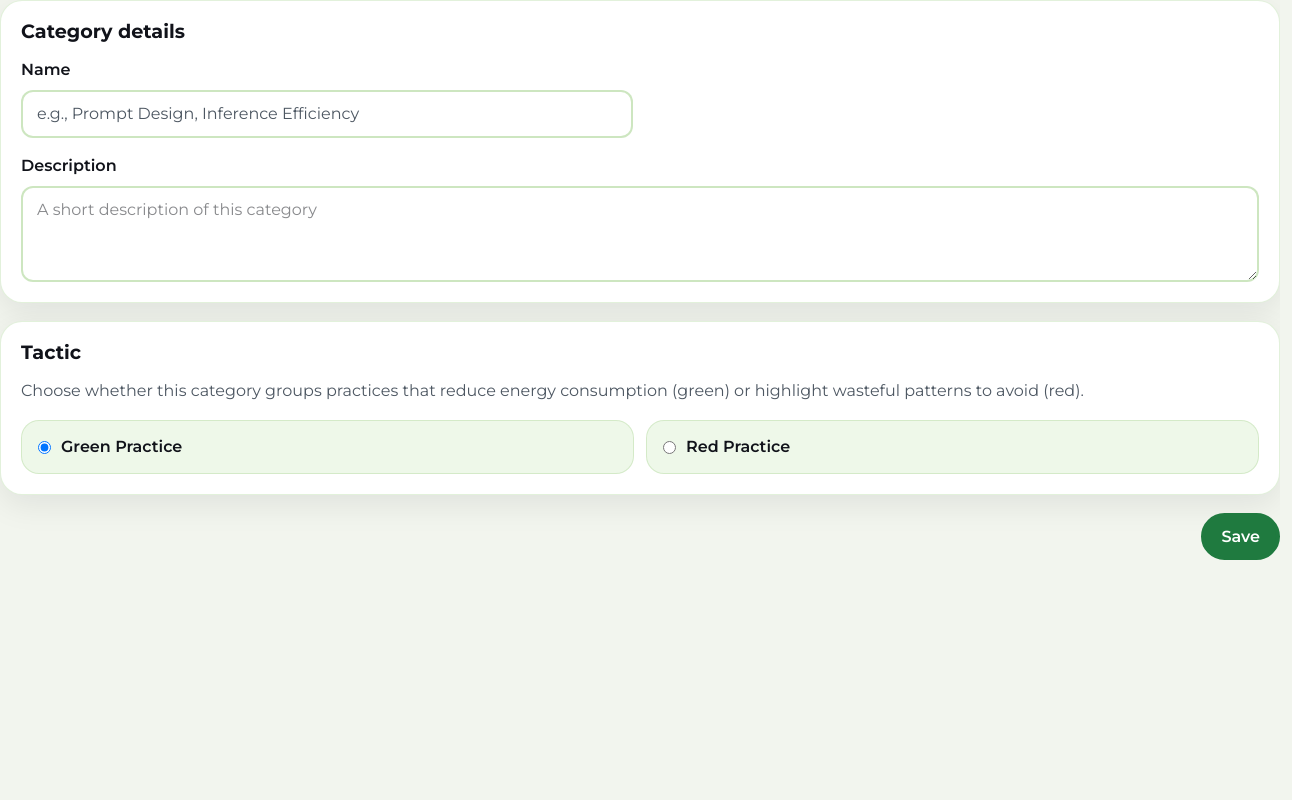
Scenario: CategoryForm › allows switching tactic to RED_PRACTICE
Click the radio button labelled "Red Practice" at {"x": 670, "y": 447}, box left=663, top=441, right=676, bottom=454
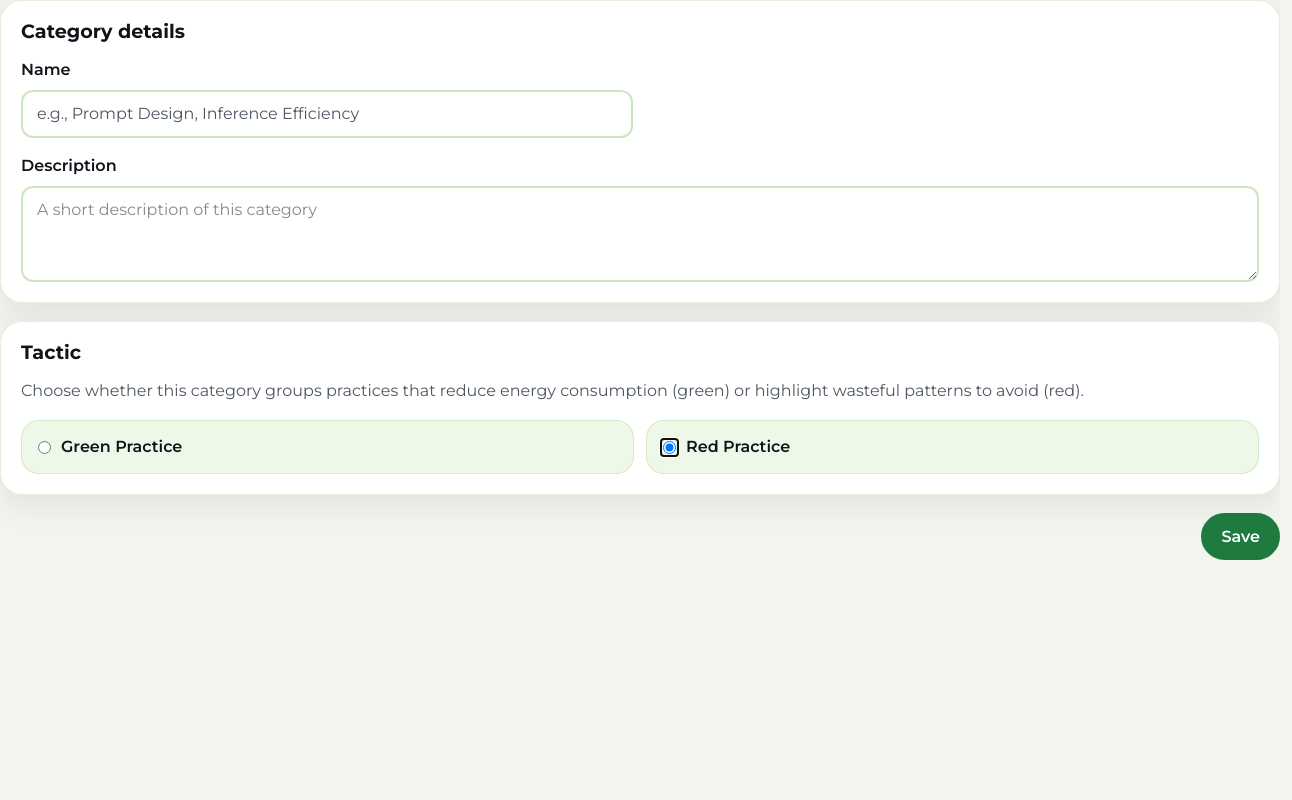
Now the radio button labelled "Red Practice" is checked, box left=663, top=441, right=676, bottom=454
Now the radio button labelled "Green Practice" is not checked, box left=38, top=441, right=51, bottom=454
